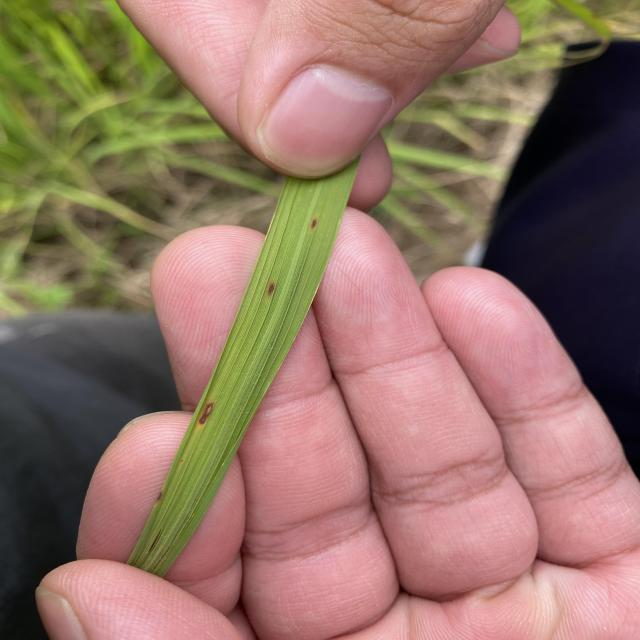Dom nau: (198, 401, 214, 425), (268, 284, 275, 295), (156, 491, 163, 501), (311, 219, 317, 229)
